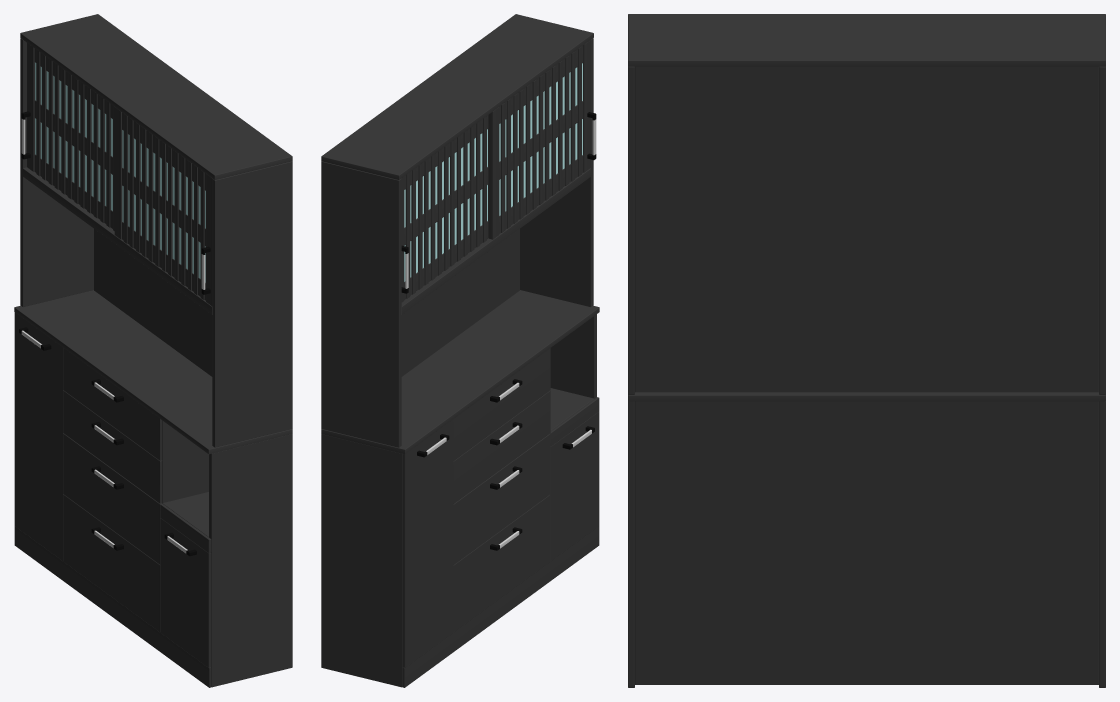
File: SM_Cupboard_03.fbx
3 renders of one model, left to right at view 1: azimuth 30°, elevation 25°; view 2: azimuth 150°, elevation 25°; view 3: azimuth 270°, elevation 25°, orthographic. The views are drawn at different scales.
Parts seen in each view (by area): view 1: SM_Cupboard_03_LOD0; view 2: SM_Cupboard_03_LOD0; view 3: SM_Cupboard_03_LOD0.
Part boxes in pixels (box(x1,y1,x2,y2)): SM_Cupboard_03_LOD0: box(14, 14, 292, 687); SM_Cupboard_03_LOD0: box(321, 14, 599, 687); SM_Cupboard_03_LOD0: box(628, 14, 1105, 687).
Bounding box in the file's own units: 37.99 × 140 × 203.
